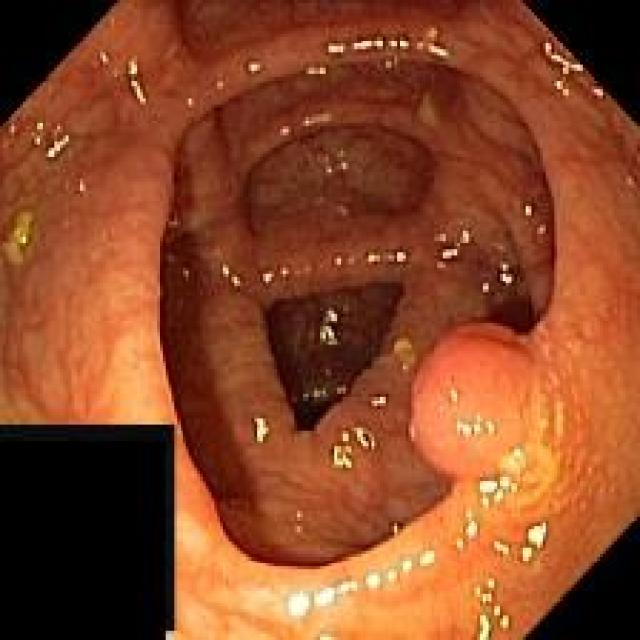Polyps: (409, 324, 532, 485)
